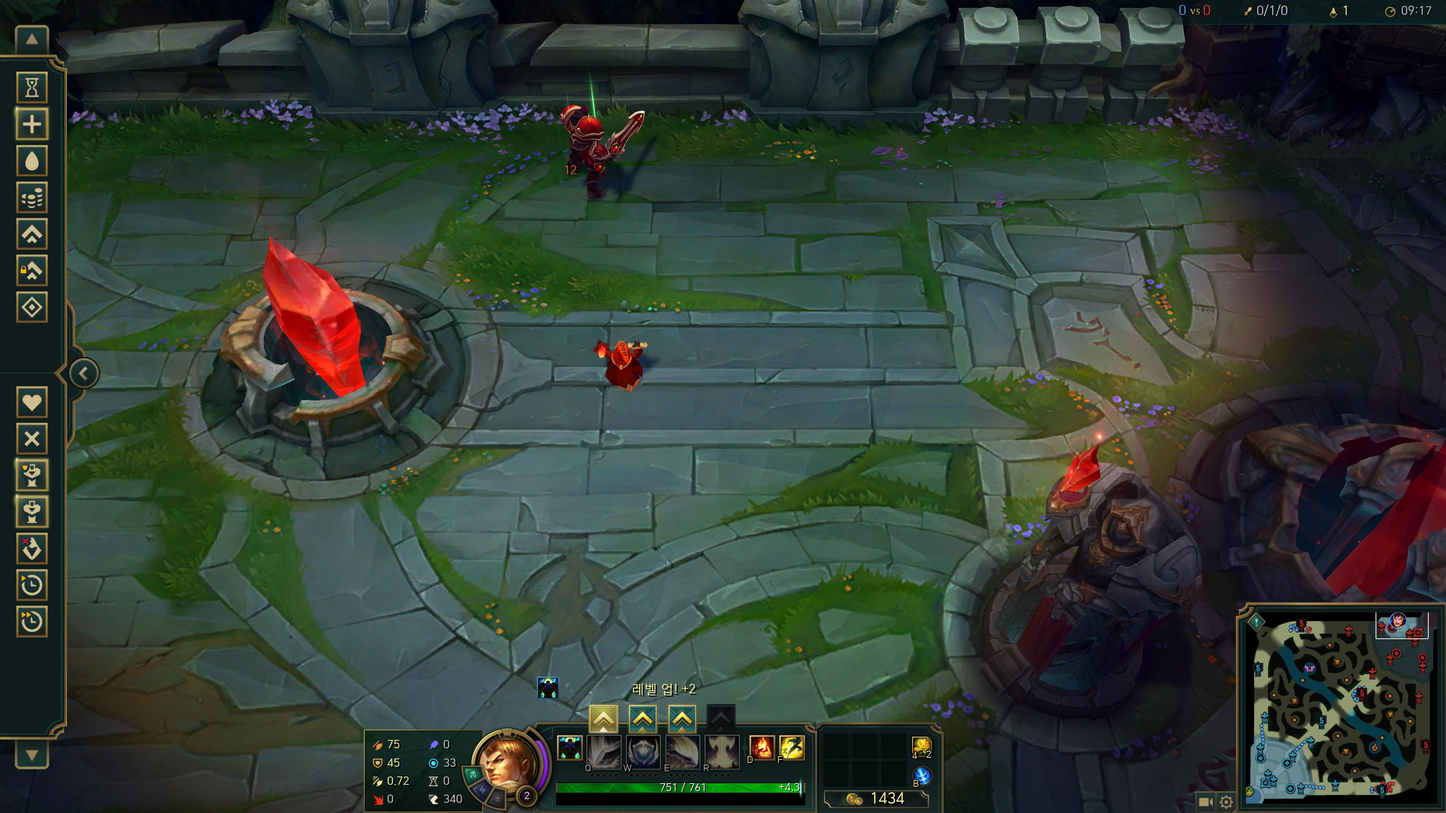enemy-caster-minion: (595, 340, 647, 391)
enemy-inhibitor: (183, 234, 499, 499)
enemy-nexus: (1208, 385, 1446, 596)
enemy-tower: (983, 448, 1204, 718)
